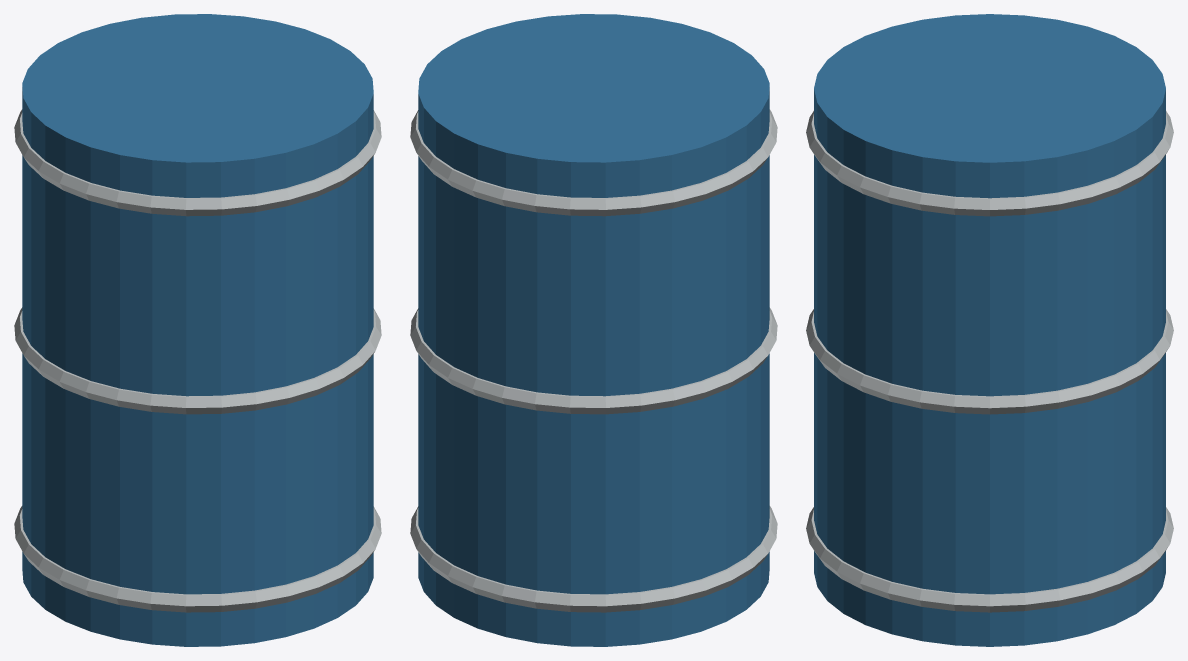
File: SM_Factory_OilDrum.fbx
The picture shows the model from 3 angles, left to right: view 1: azimuth 30°, elevation 25°; view 2: azimuth 150°, elevation 25°; view 3: azimuth 270°, elevation 25°; orthographic projection.
Visible parts, largest first — view 1: Drum_Body, Drum_Rib, Drum_Rib.002, Drum_Rib.001; view 2: Drum_Body, Drum_Rib, Drum_Rib.002, Drum_Rib.001; view 3: Drum_Body, Drum_Rib, Drum_Rib.001, Drum_Rib.002.
Boxes of the visible parts, x1,y1,x2,y2 form: Drum_Body: (22,14,373,646); Drum_Rib: (14,506,381,612); Drum_Rib.002: (14,109,381,216); Drum_Rib.001: (14,307,381,414); Drum_Body: (418,14,769,646); Drum_Rib: (410,506,777,612); Drum_Rib.002: (410,109,777,216); Drum_Rib.001: (410,307,777,414); Drum_Body: (814,14,1165,646); Drum_Rib: (806,507,1173,612); Drum_Rib.001: (806,309,1173,414); Drum_Rib.002: (806,111,1173,216).
Bounding box in the file's own units: 0.606 × 0.606 × 0.88.
